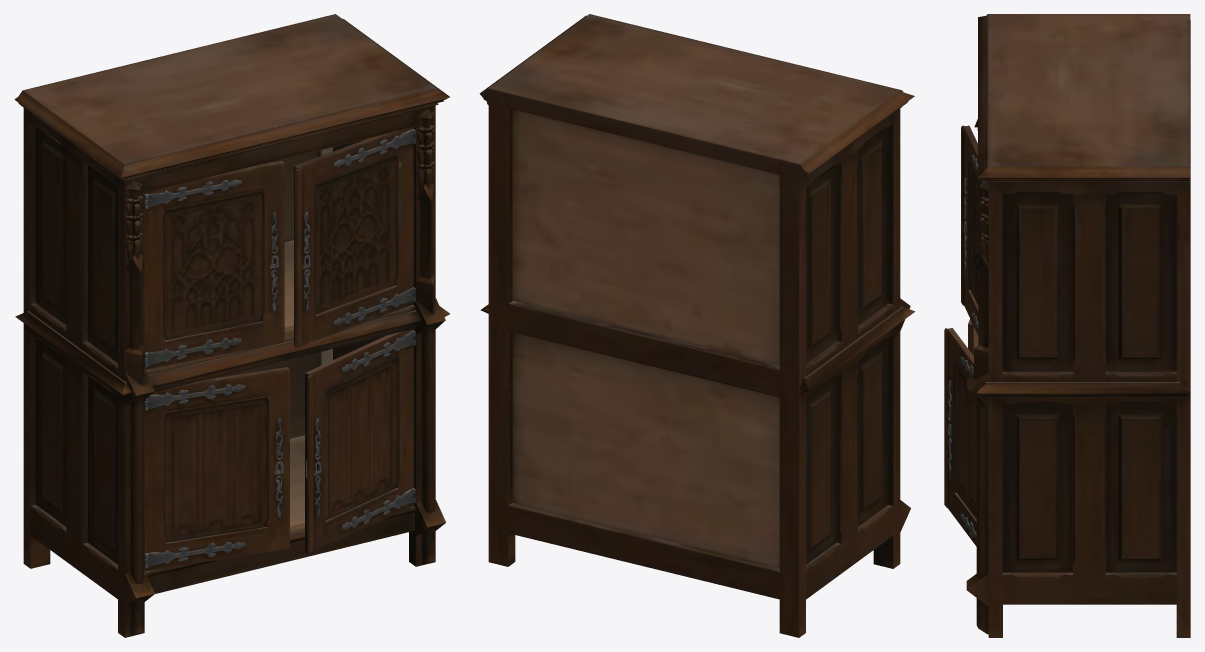
File: GothicCabinet_01.glb
The picture shows the model from 3 angles, left to right: view 1: azimuth 30°, elevation 25°; view 2: azimuth 150°, elevation 25°; view 3: azimuth 270°, elevation 25°; orthographic projection.
Visible parts, largest first — view 1: GothicCabinet_01_cabinet; view 2: GothicCabinet_01_cabinet; view 3: GothicCabinet_01_cabinet.
Part boxes in pixels (x1,y1,x2,y2): GothicCabinet_01_cabinet: (14,14,449,637); GothicCabinet_01_cabinet: (479,14,914,637); GothicCabinet_01_cabinet: (944,14,1190,637).
Bounding box in the file's own units: 1.72 × 2.36 × 1.12.
1 material, 1 textured.
